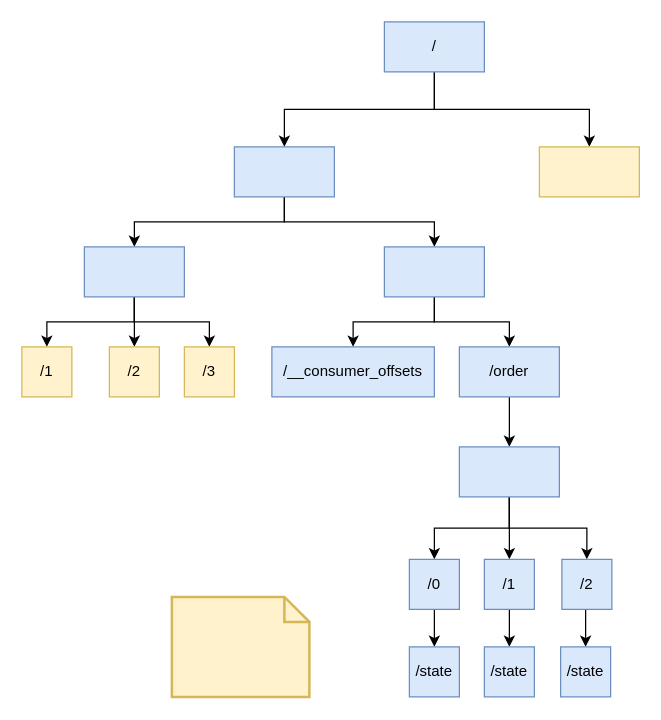
The diagram is 661 pixels wide and 720 high, and some of its shapes have lost their labels. Each missing label, with the centre of its shape:
/brokers: point 283,171
/controller: point 588,171
/ids: point 133,271
/partitions: point 508,471
/topics: point 433,271
Note: point 240,646
